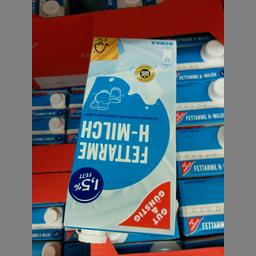milk: (64, 33, 181, 240)
